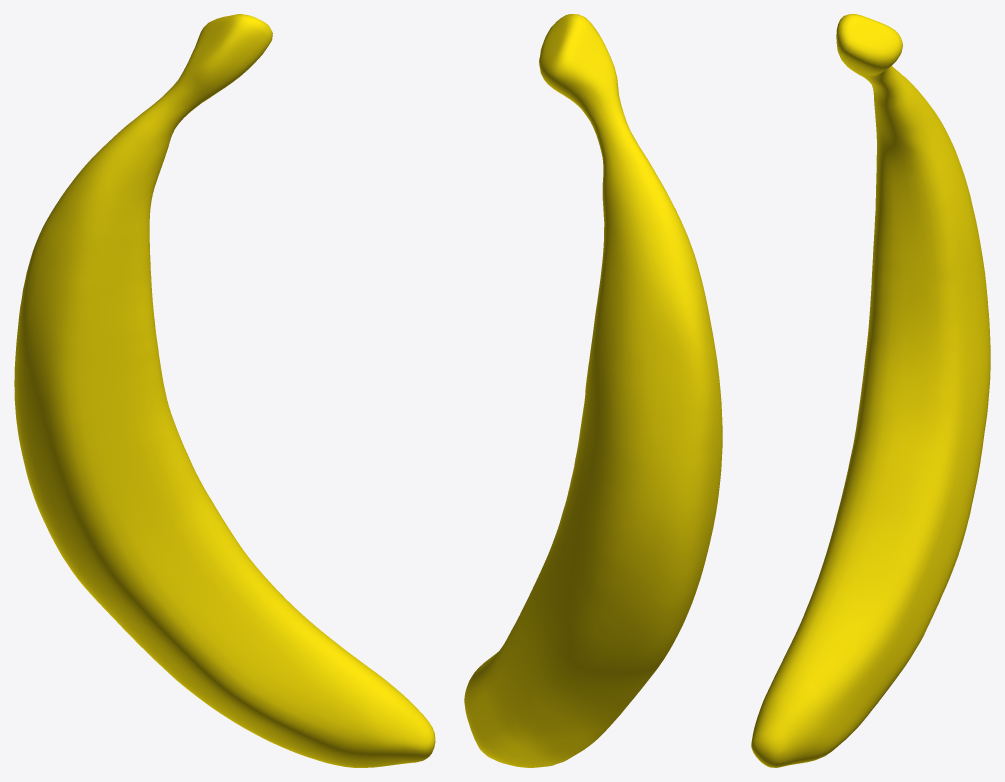
Rendered from banana.glb.
3 renders of one model, left to right at view 1: azimuth 30°, elevation 25°; view 2: azimuth 150°, elevation 25°; view 3: azimuth 270°, elevation 25°, orthographic. The views are drawn at different scales.
Visible parts, largest first — view 1: Banane; view 2: Banane; view 3: Banane.
Part boxes in pixels (box(x1,y1,x2,y2)): Banane: box(14, 14, 435, 767); Banane: box(464, 14, 722, 767); Banane: box(751, 14, 990, 767).
Size of the model in its own units: 0.5973 by 1.34 by 0.4142.
